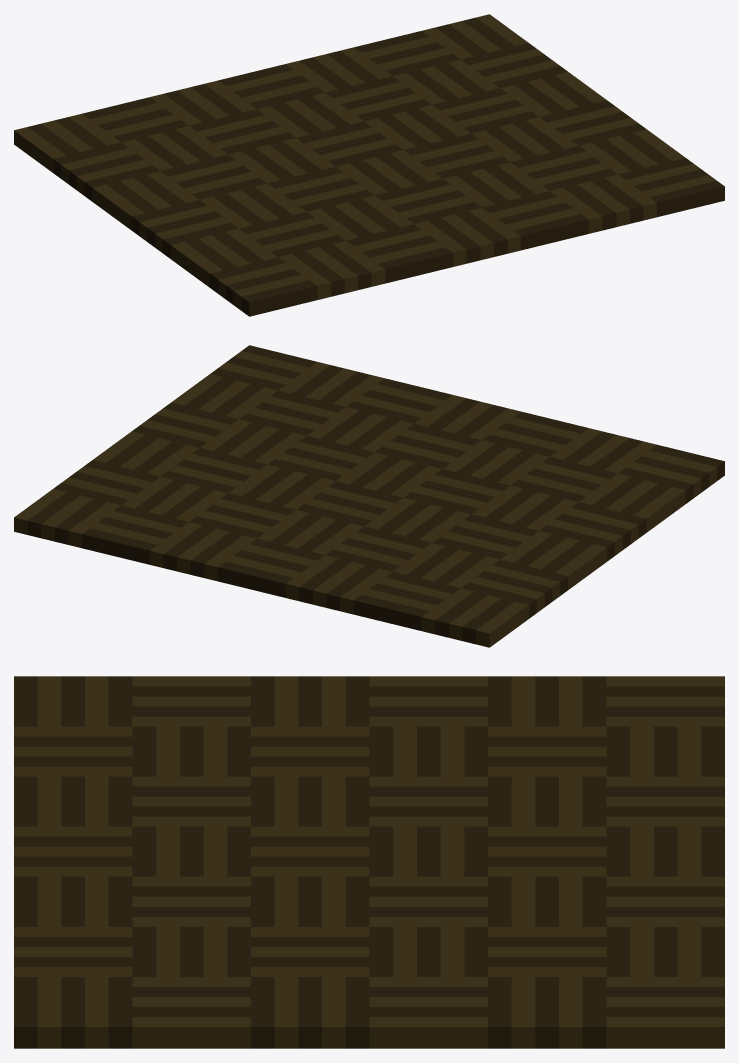
Rendered from Floor.fbx.
3 views of the same model, one above another, from view 1: azimuth 30°, elevation 25°; view 2: azimuth 150°, elevation 25°; view 3: azimuth 270°, elevation 25° (orthographic). The views are drawn at different scales.
Visible parts, largest first — view 1: pCube216; view 2: pCube216; view 3: pCube216.
Part boxes in pixels (x1,y1,x2,y2): pCube216: (14, 14, 724, 316); pCube216: (14, 345, 724, 647); pCube216: (14, 676, 724, 1048).
Bounding box in the file's own units: 10.5 × 0.3 × 9.
